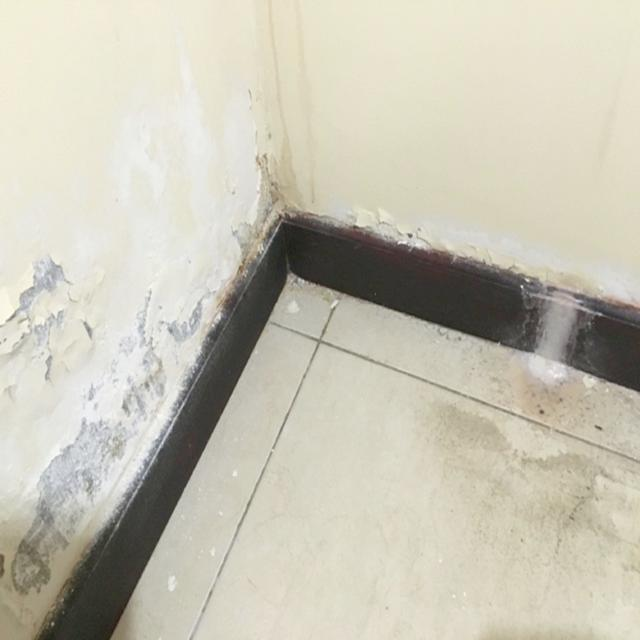Water_Leakage: (0, 65, 638, 617)
